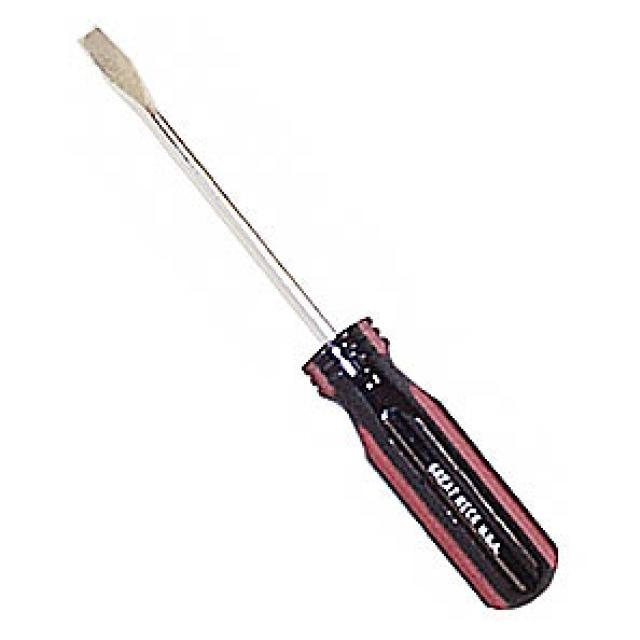screwdriver: (73, 18, 571, 616)
